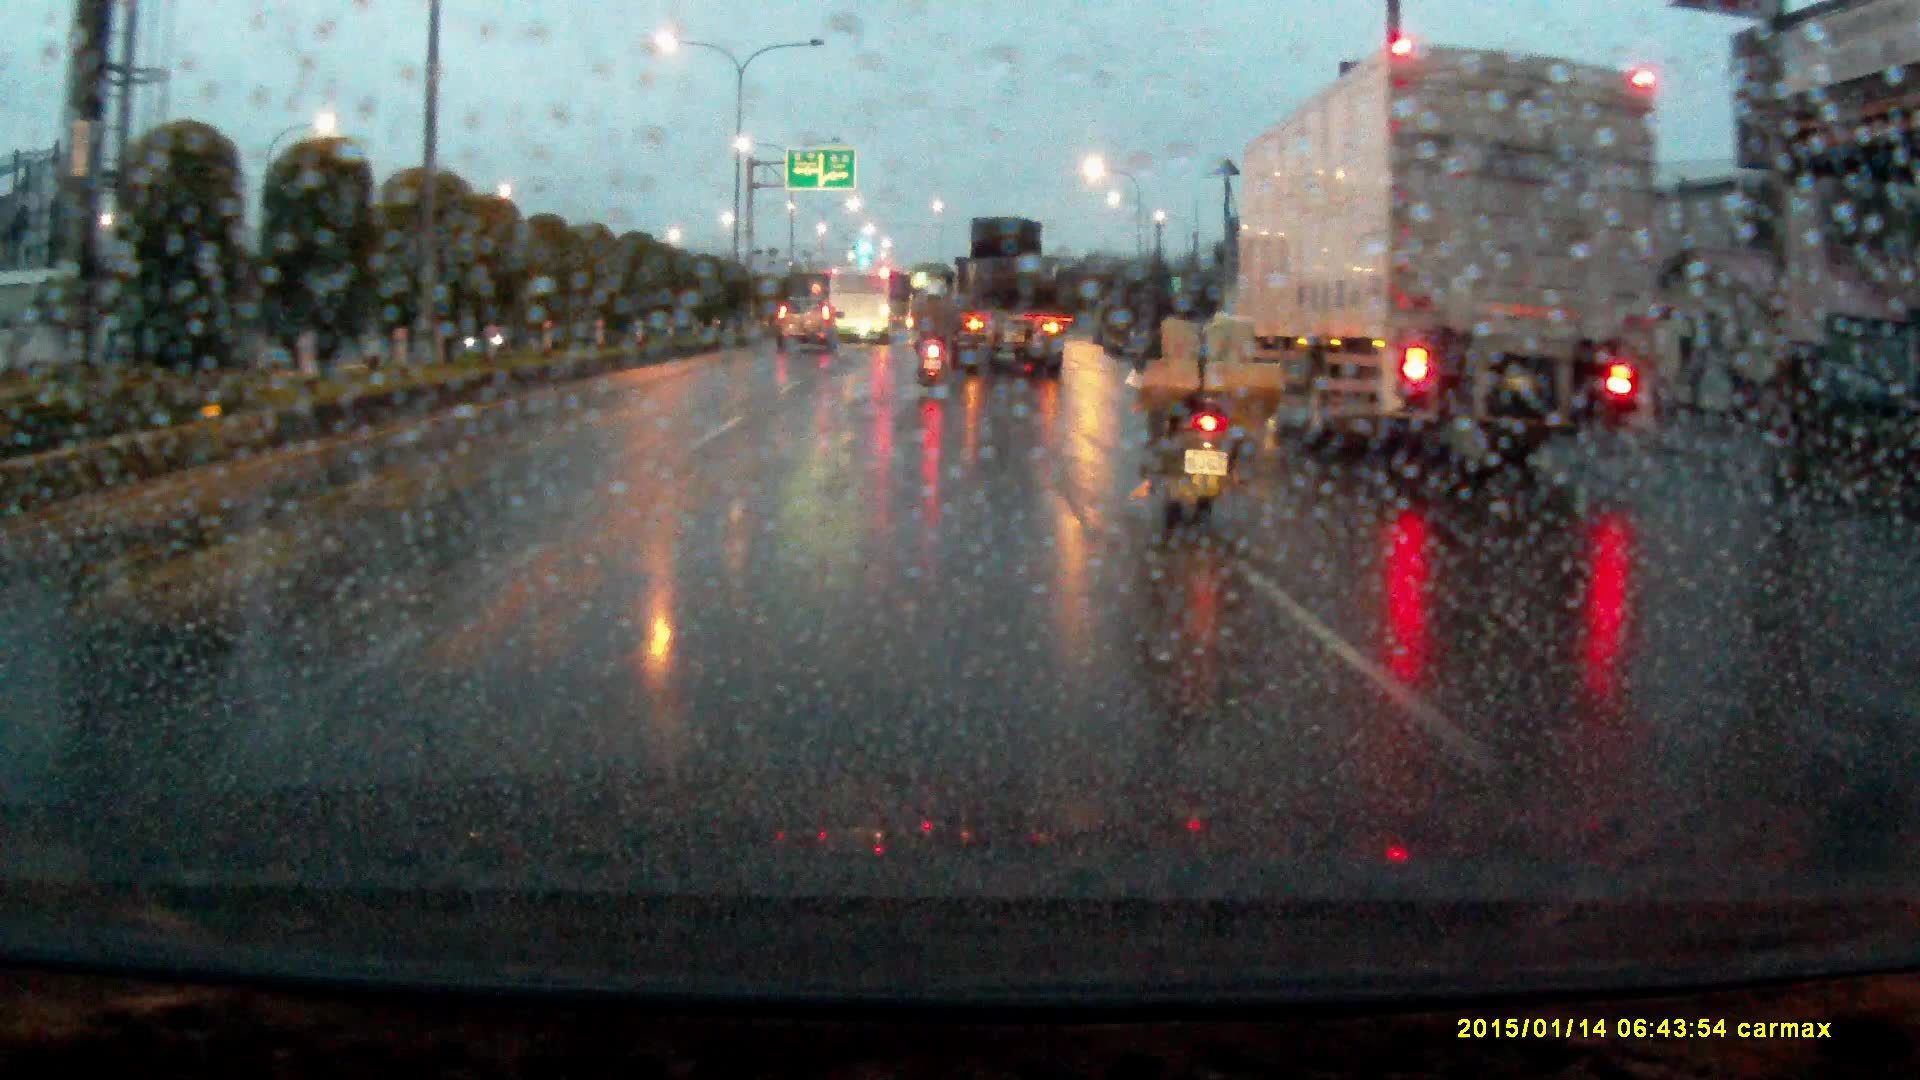rider: (1132, 253, 1286, 543), (913, 288, 954, 389)
vehicle: (1228, 40, 1664, 458), (936, 219, 1065, 377), (830, 266, 893, 342), (774, 292, 841, 352)
